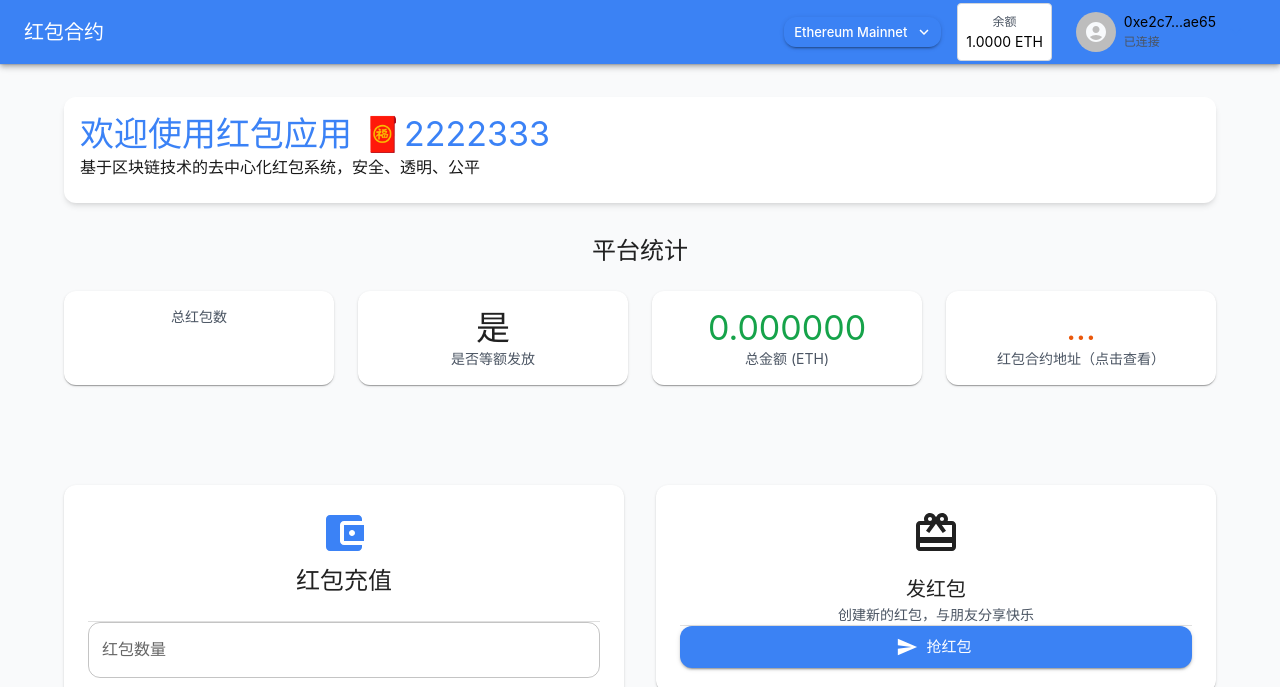
Web3钱包功能测试 › 红包合约功能测试 › 应该处理充值失败情况
The width and height of the screenshot is (1280, 687).
Type "3" into the number field labelled "红包数量" at (344, 650), box [88, 622, 600, 678]
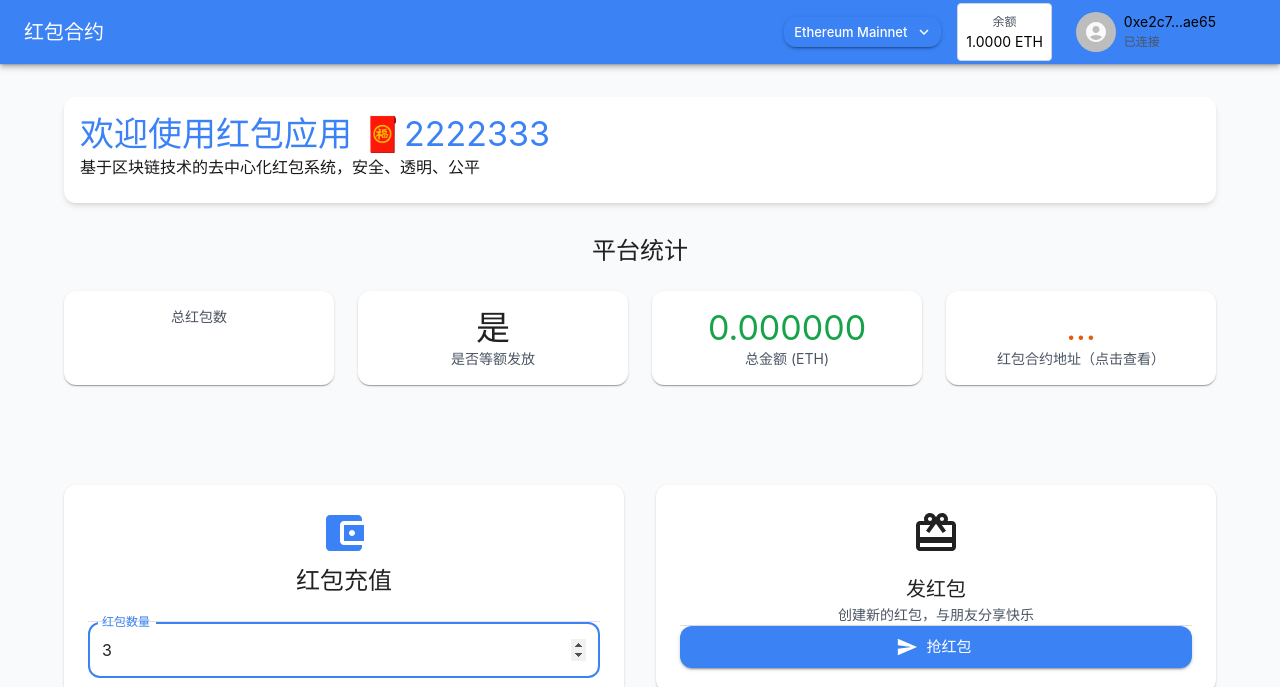
Scroll
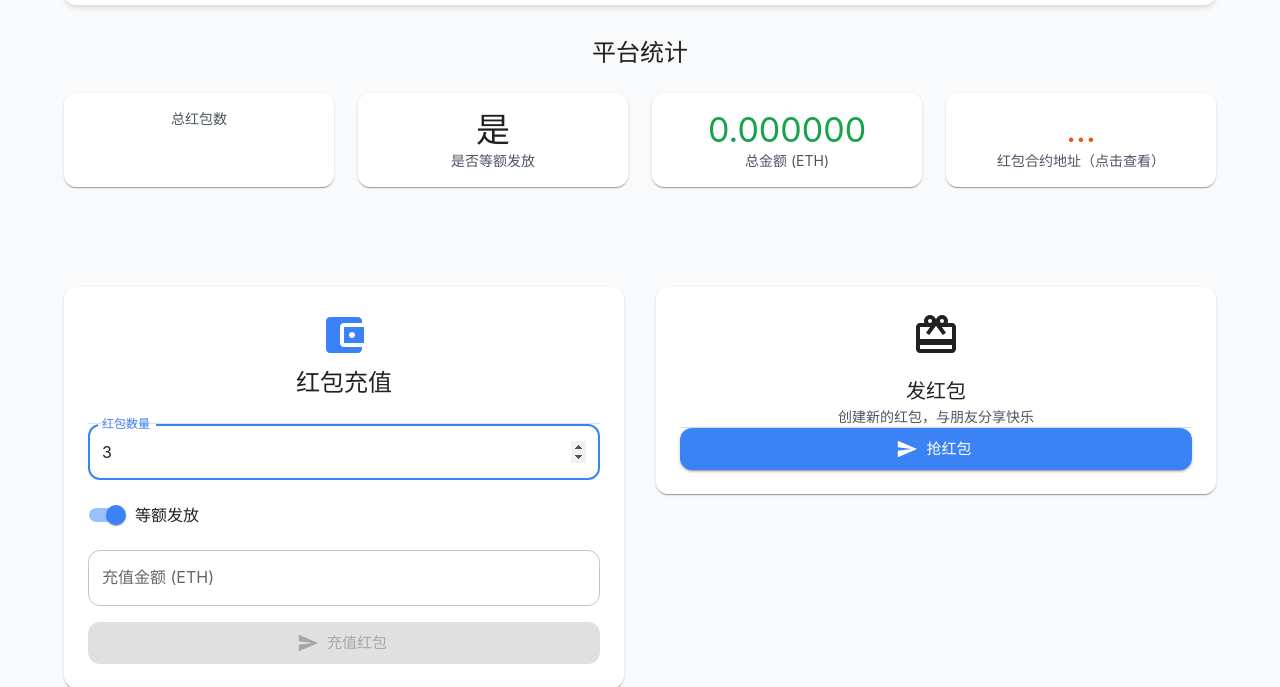
Type "0.5" into the number field labelled "充值金额 (ETH)" at (344, 578), box [88, 550, 600, 606]
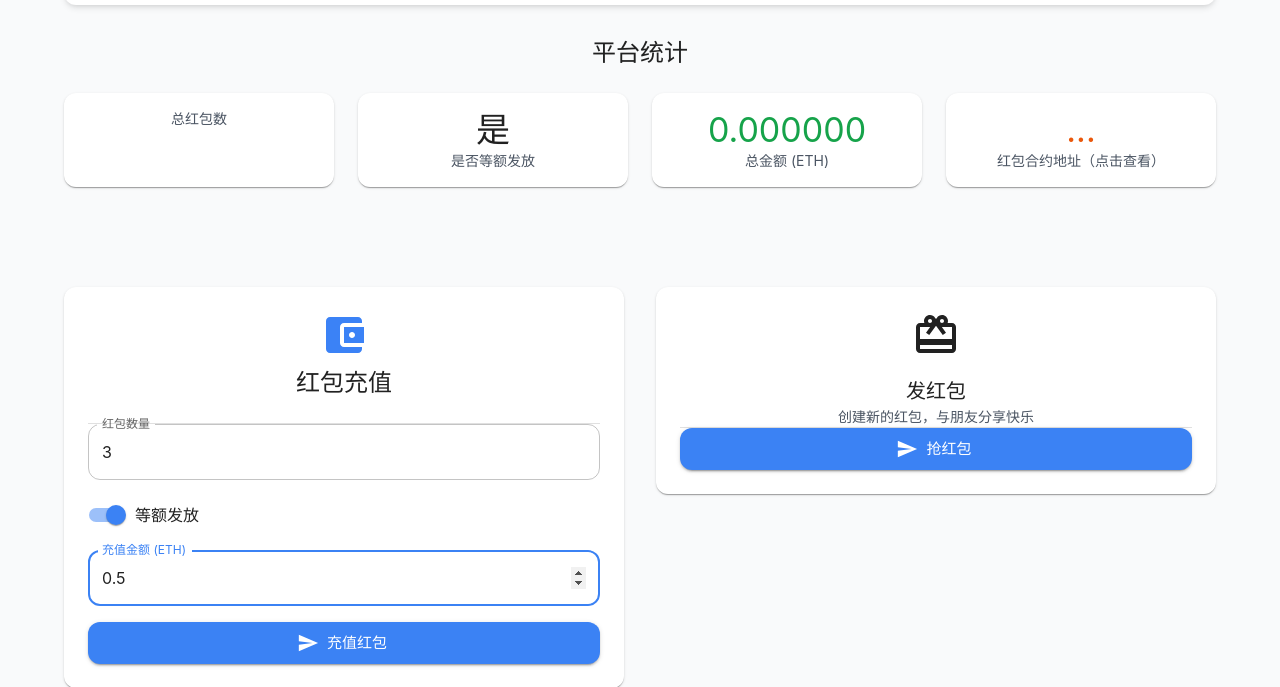
Click the button "充值红包" at (344, 643), box [88, 622, 600, 664]
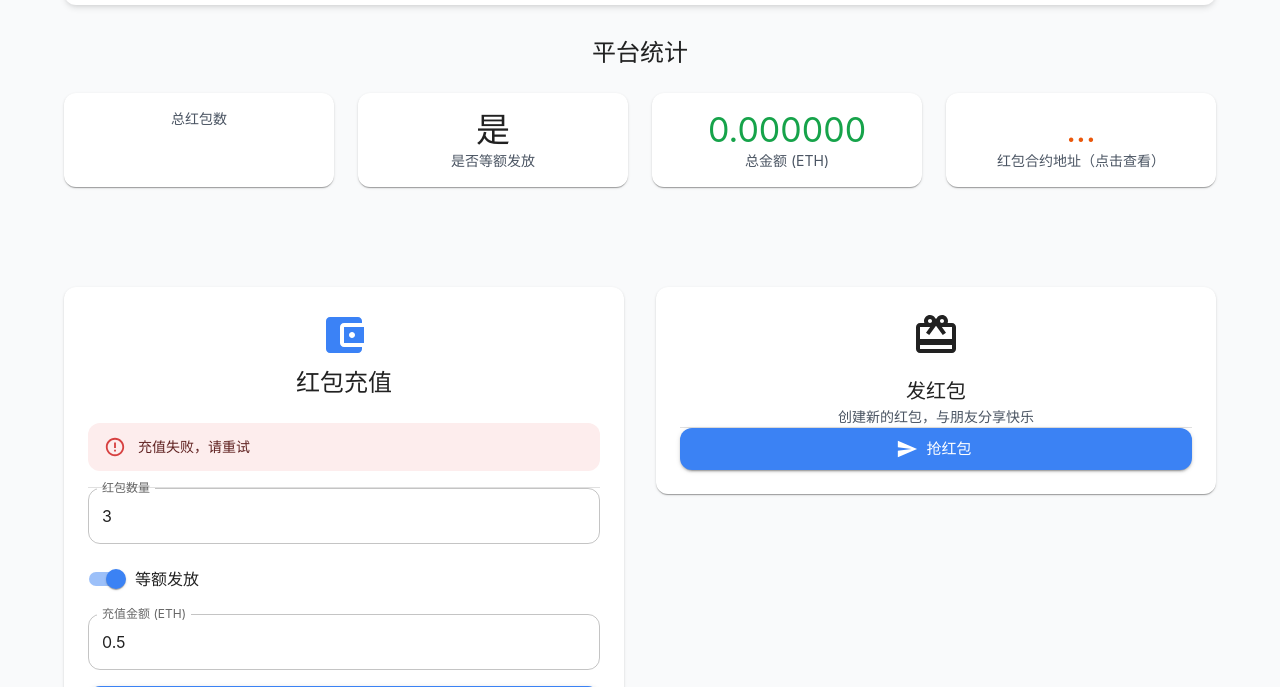
Expected: the text "充值失败，请重试" is shown, [138, 438, 250, 455]
